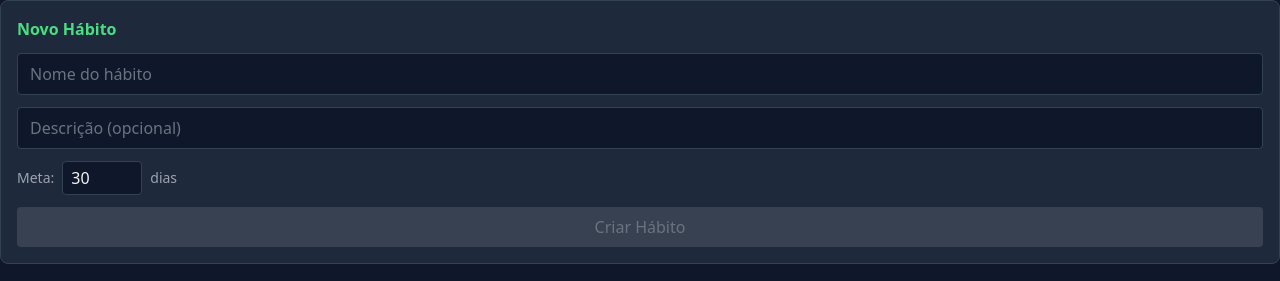
Test: CreateHabitForm › should enable submit button when name has value
Step 1. Type "Gym" into the field with placeholder "Nome do hábito" → (640, 74), box [17,53,1263,95]
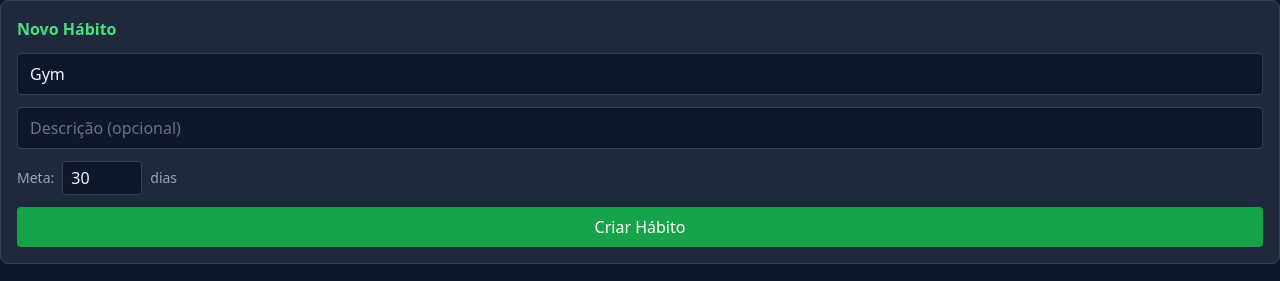
Expected: the button "Criar Hábito" is enabled, [17,207,1263,247]
